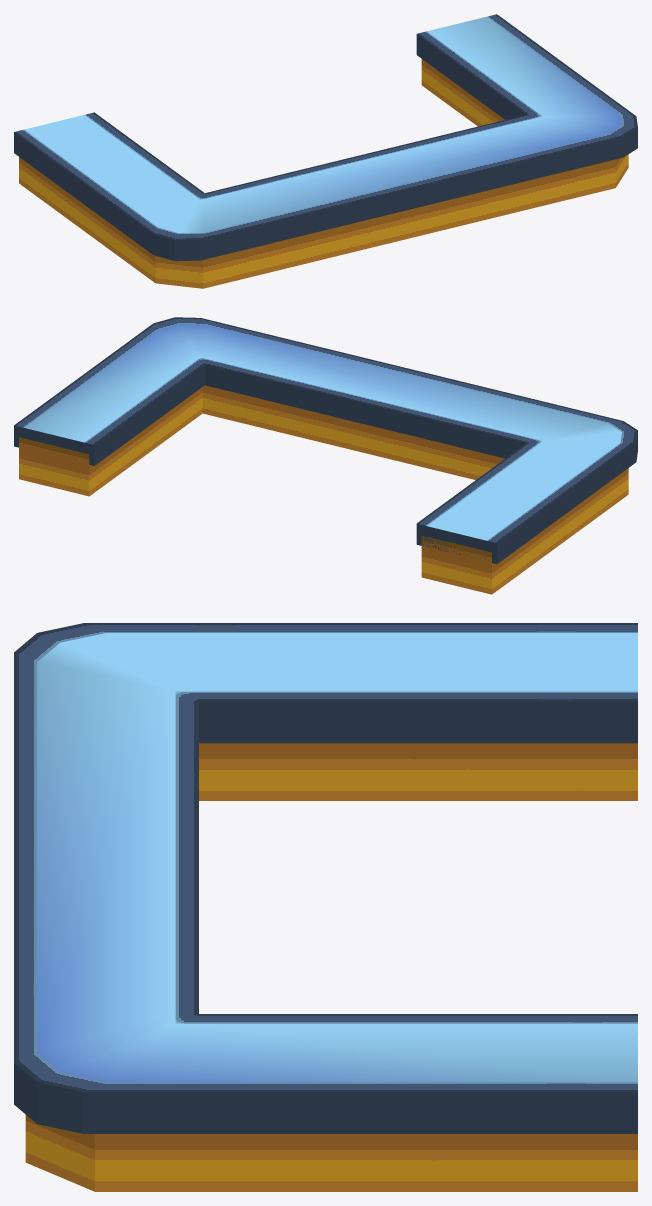
3 renders of one model, top to bottom at view 1: azimuth 30°, elevation 25°; view 2: azimuth 150°, elevation 25°; view 3: azimuth 270°, elevation 25°, orthographic. The views are drawn at different scales.
Size of the model in its own units: 6 by 0.625 by 3.38.
2 materials, 2 textured.
